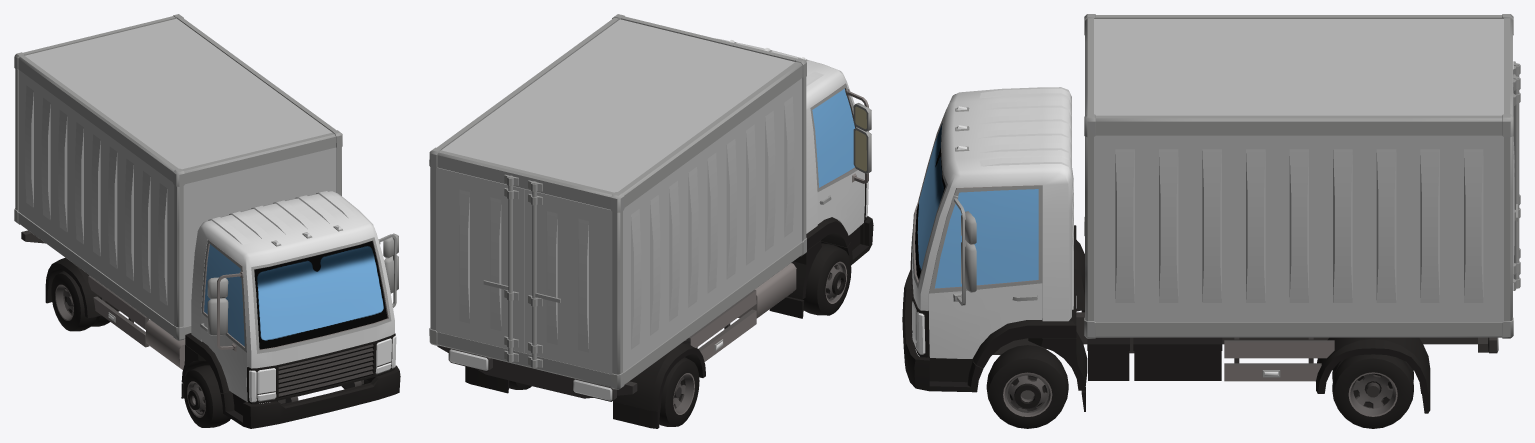
File: vehicle_07.fbx
3 views of the same model, side by side, from view 1: azimuth 30°, elevation 25°; view 2: azimuth 150°, elevation 25°; view 3: azimuth 270°, elevation 25° (orthographic). The views are drawn at different scales.
Visible parts, largest first — view 1: Stage_205, Stage_202, Stage_201, Stage_204, Stage_101, Stage_103, Stage_302, Stage_304, Stage_203; view 2: Stage_205, Stage_206, Stage_207, Stage_101, Stage_204, Stage_103, Stage_202, Stage_302, Stage_304; view 3: Stage_205, Stage_202, Stage_203, Stage_101, Stage_104, Stage_301, Stage_303, Stage_201, Stage_206.
Boxes of the visible parts, <box> form: Stage_205: <box>14,14,342,340</box>; Stage_202: <box>191,191,394,368</box>; Stage_201: <box>243,333,400,428</box>; Stage_204: <box>200,240,247,401</box>; Stage_101: <box>21,230,391,426</box>; Stage_103: <box>88,275,185,369</box>; Stage_302: <box>183,365,230,427</box>; Stage_304: <box>51,271,109,331</box>; Stage_203: <box>378,233,398,307</box>; Stage_205: <box>429,14,806,389</box>; Stage_206: <box>436,167,524,354</box>; Stage_207: <box>524,181,612,374</box>; Stage_101: <box>437,217,868,428</box>; Stage_204: <box>810,83,871,235</box>; Stage_103: <box>683,263,796,361</box>; Stage_202: <box>715,38,854,233</box>; Stage_302: <box>803,243,851,315</box>; Stage_304: <box>659,357,699,426</box>; Stage_205: <box>1084,14,1520,338</box>; Stage_202: <box>912,87,1073,321</box>; Stage_203: <box>929,185,1042,358</box>; Stage_101: <box>911,225,1498,413</box>; Stage_104: <box>1087,337,1334,381</box>; Stage_301: <box>986,345,1068,428</box>; Stage_303: <box>1332,354,1413,428</box>; Stage_201: <box>902,233,929,391</box>; Stage_206: <box>1512,76,1520,316</box>.
Size of the model in its own units: 131 by 156 by 280.
